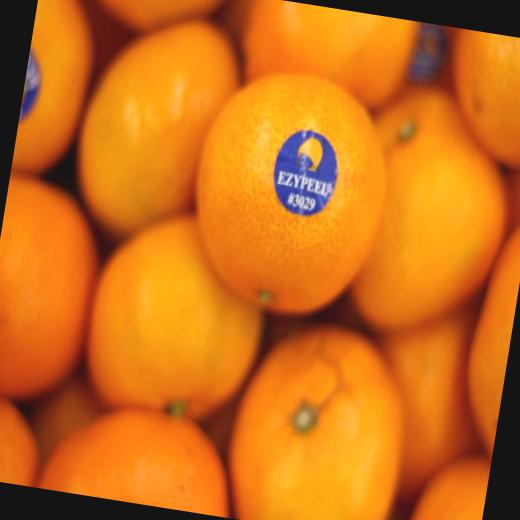Grape: (183, 53, 400, 333), (339, 71, 520, 354), (62, 10, 241, 254), (77, 206, 269, 422), (215, 317, 419, 520), (0, 172, 107, 410), (34, 400, 244, 518), (361, 319, 490, 506), (232, 0, 419, 115), (11, 0, 109, 178), (453, 209, 520, 465), (430, 27, 520, 174), (406, 450, 490, 520), (81, 0, 215, 32)
